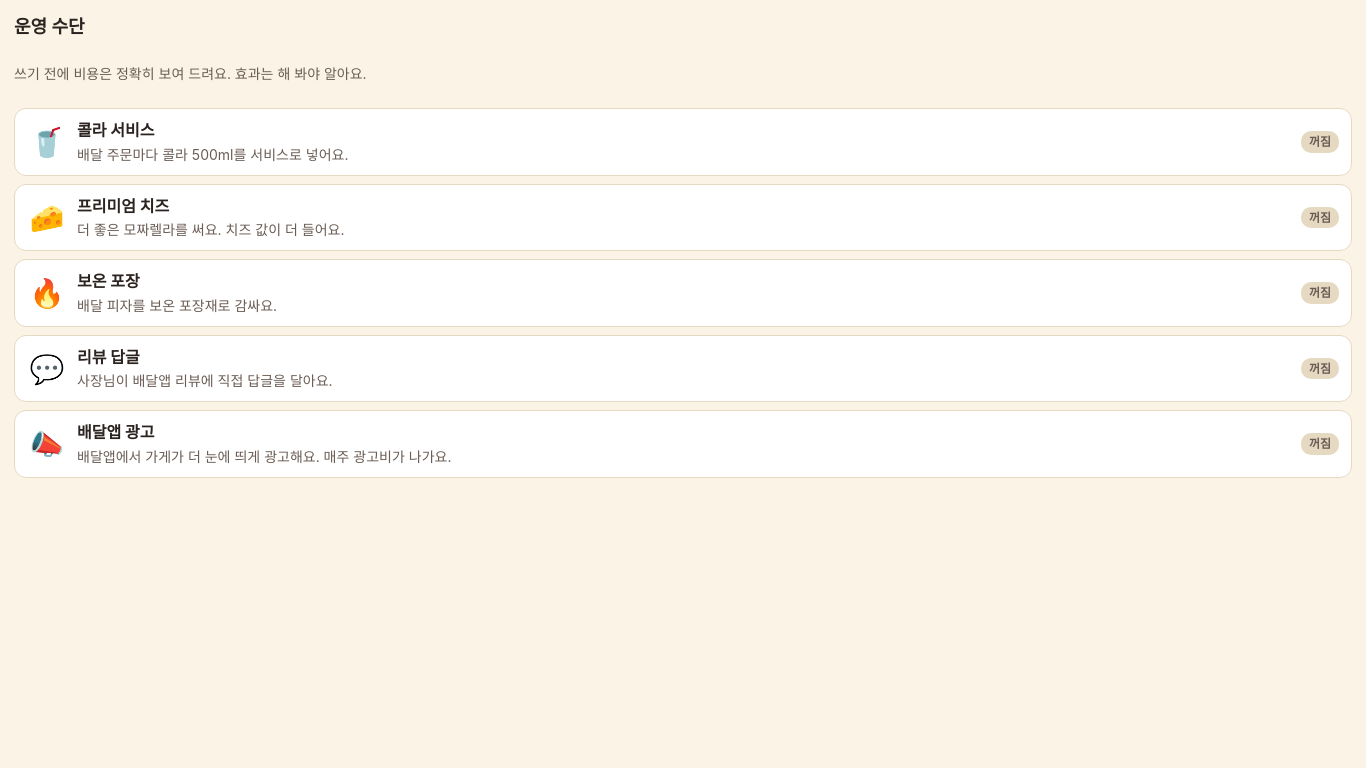
Test: 콜라 서비스 미리보기 문구
The image size is (1366, 768).
What coordinates should you click on to do the following:
click the button "🥤 콜라 서비스 배달 주문마다 콜라 500ml를 서비스로 넣어요. 꺼짐"
I would click on:
 (47, 142)
Its box is x1=14 y1=108 x2=1352 y2=176.
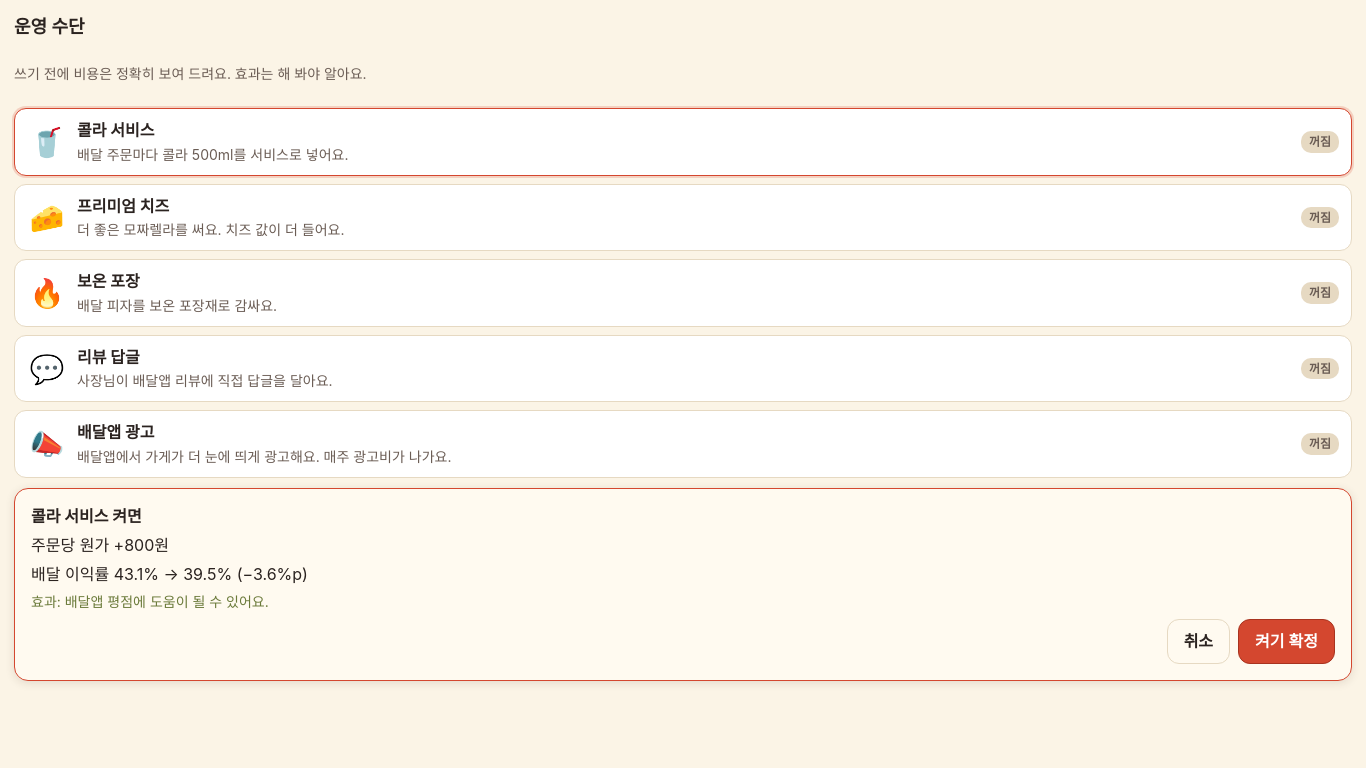
Check: the text "배달 이익률 43.1% → 39.5% (−3.6%p)" is shown, box x1=31 y1=564 x2=308 y2=584
Check: the text "주문당 원가 +800원" is shown, box x1=31 y1=535 x2=169 y2=555
